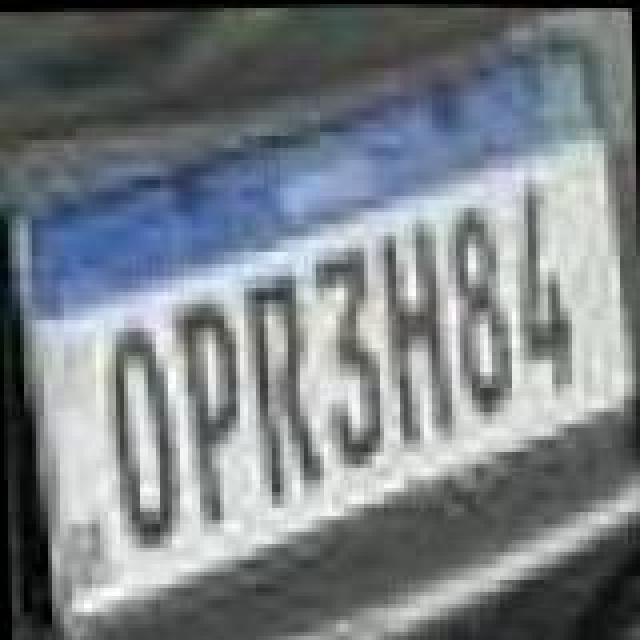3: (306, 240, 386, 472)
4: (508, 176, 576, 396)
8: (440, 200, 520, 424)
H: (370, 210, 462, 446)
O: (100, 318, 180, 554)
P: (168, 292, 248, 528)
R: (236, 272, 328, 508)
